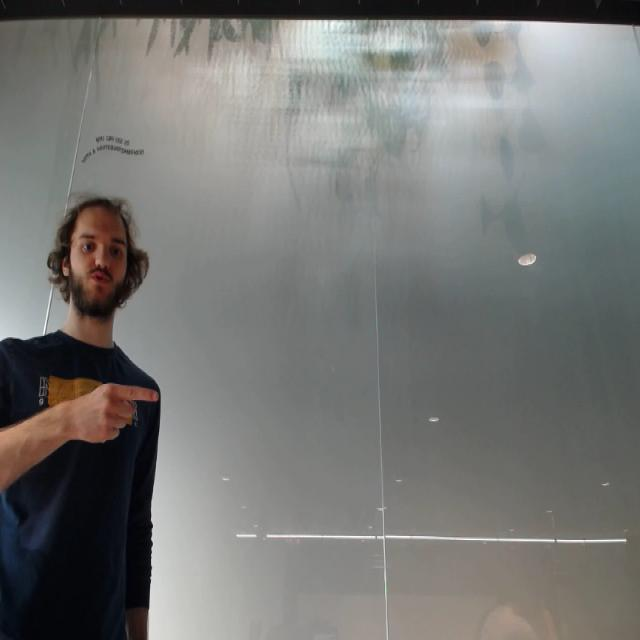right: (68, 377, 164, 449)
